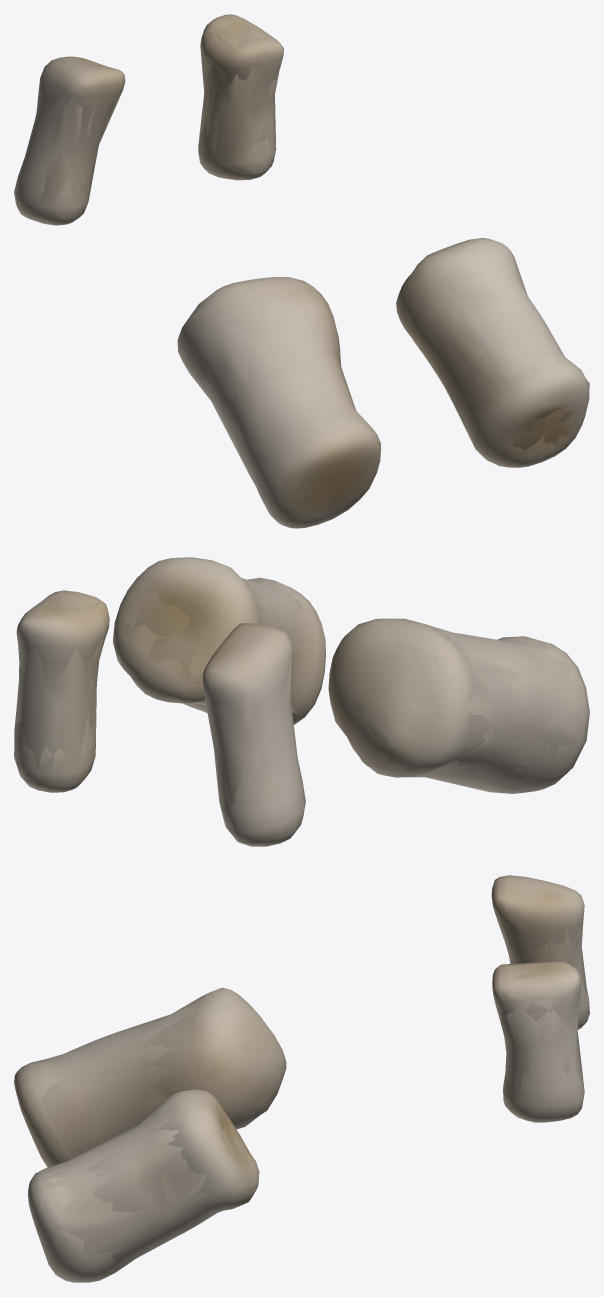
File: FR 2nd Phalanx.fbx
3 renders of one model, top to bottom at view 1: azimuth 30°, elevation 25°; view 2: azimuth 150°, elevation 25°; view 3: azimuth 270°, elevation 25°, orthographic. The views are drawn at different scales.
Parts seen in each view (by area): view 1: FR 2nd Phalanx, FR 2nd Phalanx low; view 2: FR 2nd Phalanx, FR 2nd Phalanx low; view 3: FR 2nd Phalanx, FR 2nd Phalanx low.
Part boxes in pixels (x1,y1,x2,y2): FR 2nd Phalanx: [14, 14, 589, 528]; FR 2nd Phalanx low: [16, 23, 588, 527]; FR 2nd Phalanx: [14, 557, 589, 846]; FR 2nd Phalanx low: [14, 565, 588, 846]; FR 2nd Phalanx: [14, 875, 589, 1282]; FR 2nd Phalanx low: [17, 876, 587, 1280].
Size of the model in its own units: 2.69 by 2.34 by 4.14.
